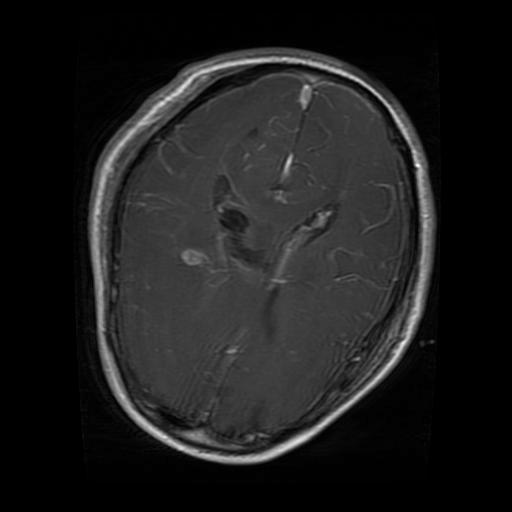Tumour-Glioma: (166, 232, 222, 291)
